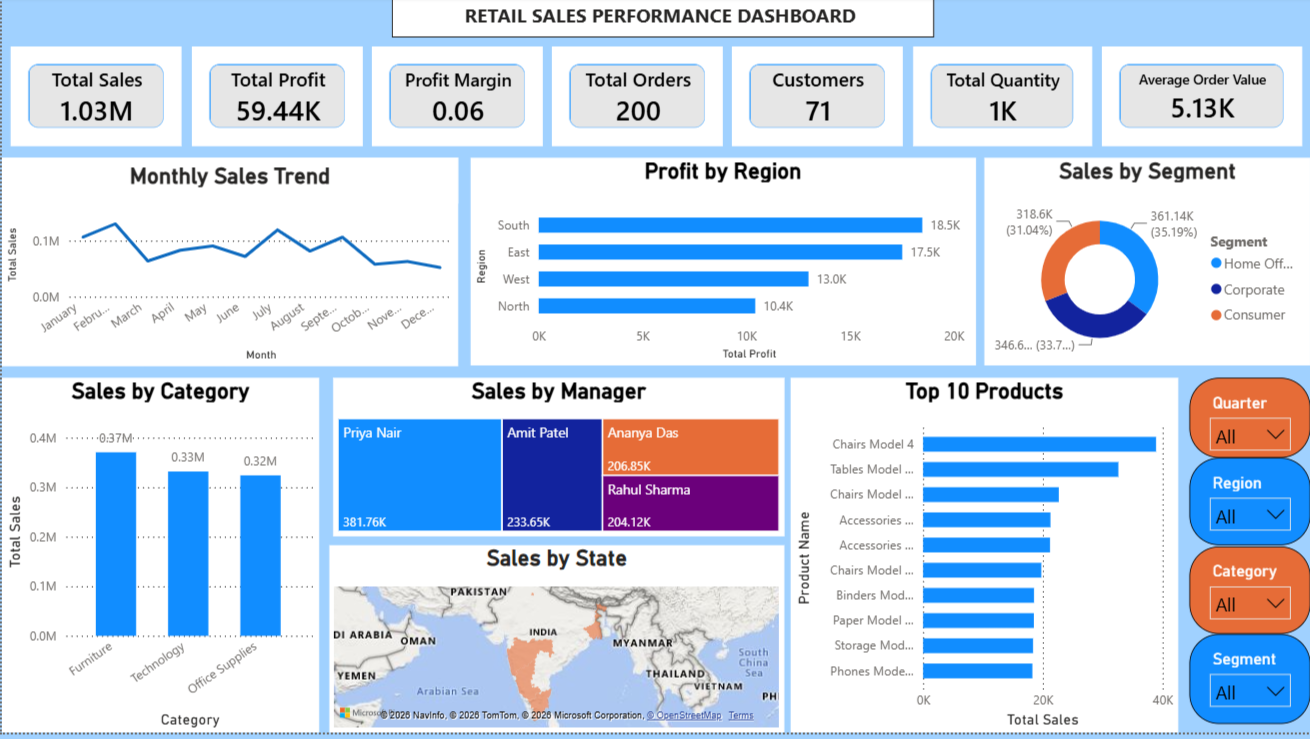

This screenshot's page, from the dashboard's own definition file:
{"tool":"powerbi","page":{"name":"Page 1","canvas":[1280,720],"ordinal":0},"visuals":[{"type":"cardVisual","fields":{"Data":["Orders.Total Sales"]},"box":[8.6,48.9,167.5,97.8],"z":0},{"type":"cardVisual","fields":{"Data":["Orders.Total Profit"]},"box":[185.9,48.9,167.5,97.8],"z":1000},{"type":"cardVisual","fields":{"Data":["Orders.Profit Margin"]},"box":[362,48.9,167.5,97.8],"z":2000},{"type":"cardVisual","fields":{"Data":["Orders.Total Orders"]},"box":[538,48.9,167.5,97.8],"z":3000},{"type":"cardVisual","fields":{"Data":["Orders.Customers"]},"box":[714.1,48.9,167.5,97.8],"z":4000},{"type":"cardVisual","fields":{"Data":["Orders.Total Quantity"]},"box":[891.4,48.9,174.9,97.8],"z":5000},{"type":"cardVisual","fields":{"Data":["Orders.Average Order Value"]},"box":[1076.1,48.9,195.7,97.8],"z":6000},{"type":"lineChart","title":"Monthly Sales Trend","fields":{"Category":["Date Table.Month"],"Y":["Orders.Total Sales"]},"box":[0,157.7,446.3,204],"z":7000},{"type":"clusteredBarChart","title":"Profit by Region","fields":{"Category":["Orders.Region"],"Y":["Orders.Total Profit"]},"box":[458.6,157.7,494,203],"z":8000},{"type":"clusteredColumnChart","title":" Sales by Category","fields":{"Category":["Orders.Category"],"Y":["Orders.Total Sales"]},"box":[0,373,310.6,347.3],"z":10000},{"type":"barChart","title":"Top 10 Products","fields":{"Category":["Orders.Product Name"],"Y":["Orders.Total Sales"]},"box":[771.6,373,379.1,347.3],"z":12000},{"type":"donutChart","title":"Sales by Segment ","fields":{"Category":["Orders.Segment"],"Y":["Orders.Total Sales"]},"box":[961.1,157.7,319.2,203],"z":13000},{"type":"treemap","title":"Sales by Manager","fields":{"Group":["People.Manager"],"Values":["Orders.Total Sales"]},"box":[324.1,373,441.4,155.3],"z":14000},{"type":"filledMap","title":"Sales by State","fields":{"Category":["Orders.State"]},"box":[320.4,536.8,445.1,183.4],"z":16000},{"type":"slicer","fields":{"Values":["Orders.Segment"]},"box":[1161.7,623.6,118.6,88],"z":16001},{"type":"slicer","fields":{"Values":["Date Table.Quarter"]},"box":[1161.7,373,118.6,78.3],"z":16002},{"type":"slicer","fields":{"Values":["Orders.Region"]},"box":[1161.7,451.2,118.6,85.6],"z":16003},{"type":"slicer","fields":{"Values":["Orders.Category"]},"box":[1161.7,538,118.6,85.6],"z":16004},{"type":"textbox","box":[381.5,0,530.7,40.4],"z":16005}]}

Visuals, with their boxes in screenshot pixels (x1, y1, x2, y2), scaled from the page's 1280x720 canvas onto the 1310x739 screenshot:
cardVisual - Orders.Total Sales: detection(9, 50, 180, 151)
cardVisual - Orders.Total Profit: detection(190, 50, 362, 151)
cardVisual - Orders.Profit Margin: detection(370, 50, 542, 151)
cardVisual - Orders.Total Orders: detection(551, 50, 722, 151)
cardVisual - Orders.Customers: detection(731, 50, 902, 151)
cardVisual - Orders.Total Quantity: detection(912, 50, 1091, 151)
cardVisual - Orders.Average Order Value: detection(1101, 50, 1302, 151)
"Monthly Sales Trend" lineChart: detection(0, 162, 457, 371)
"Profit by Region" clusteredBarChart: detection(469, 162, 975, 370)
" Sales by Category" clusteredColumnChart: detection(0, 383, 318, 738)
"Top 10 Products" barChart: detection(790, 383, 1178, 738)
"Sales by Segment " donutChart: detection(984, 162, 1309, 370)
"Sales by Manager" treemap: detection(332, 383, 783, 542)
"Sales by State" filledMap: detection(328, 551, 783, 738)
slicer - Orders.Segment: detection(1189, 640, 1309, 730)
slicer - Date Table.Quarter: detection(1189, 383, 1309, 463)
slicer - Orders.Region: detection(1189, 463, 1309, 551)
slicer - Orders.Category: detection(1189, 552, 1309, 640)
textbox: detection(390, 0, 934, 41)
